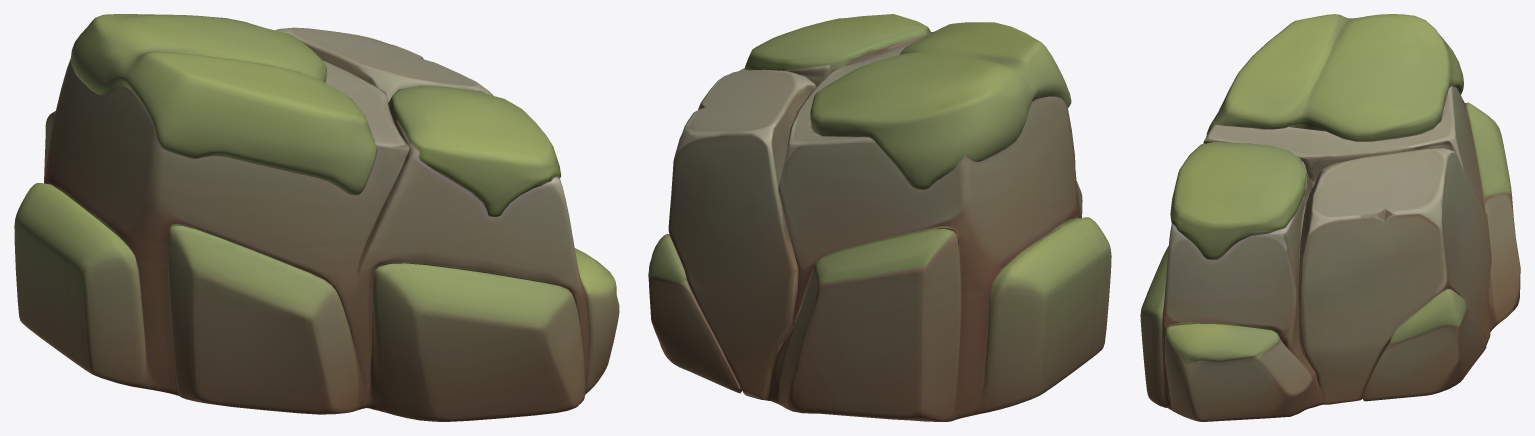
The model's file is rock2.fbx.
3 renders of one model, left to right at view 1: azimuth 30°, elevation 25°; view 2: azimuth 150°, elevation 25°; view 3: azimuth 270°, elevation 25°, orthographic. The views are drawn at different scales.
Parts seen in each view (by area): view 1: tripo_42c5257c_54df_4dfe_888e_3eb4babf9ba4; view 2: tripo_42c5257c_54df_4dfe_888e_3eb4babf9ba4; view 3: tripo_42c5257c_54df_4dfe_888e_3eb4babf9ba4.
Boxes of the visible parts, box(x1,y1,x2,y2) form: tripo_42c5257c_54df_4dfe_888e_3eb4babf9ba4: box(14, 14, 619, 421); tripo_42c5257c_54df_4dfe_888e_3eb4babf9ba4: box(648, 14, 1111, 421); tripo_42c5257c_54df_4dfe_888e_3eb4babf9ba4: box(1140, 14, 1520, 421).
Size of the model in its own units: 0.9995 by 0.7246 by 0.9165.
1 material, 1 textured.
